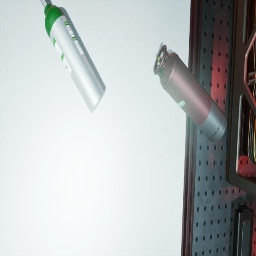0: (40, 0, 104, 113)
NitrogenTank ,: (154, 45, 227, 142)
